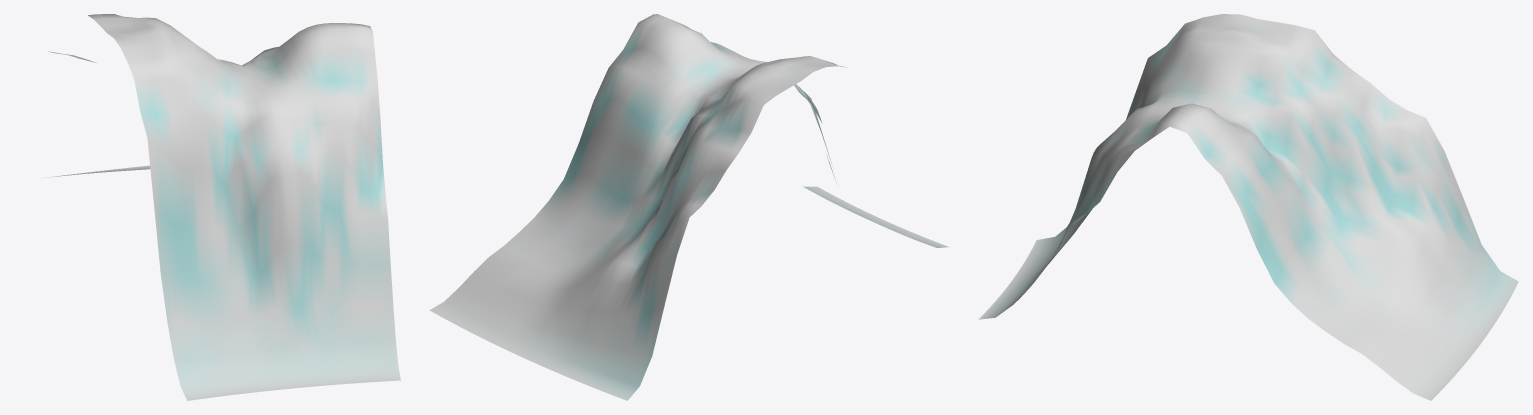
The model's file is near_11.glb.
3 views of the same model, side by side, from view 1: azimuth 30°, elevation 25°; view 2: azimuth 150°, elevation 25°; view 3: azimuth 270°, elevation 25° (orthographic). The views are drawn at different scales.
Parts seen in each view (by area): view 1: Mountain; view 2: Mountain; view 3: Mountain.
Boxes of the visible parts, x1,y1,x2,y2 form: Mountain: (42, 14, 400, 400); Mountain: (429, 14, 949, 400); Mountain: (978, 14, 1518, 400).
Bounding box in the file's own units: 271 × 191 × 385.
